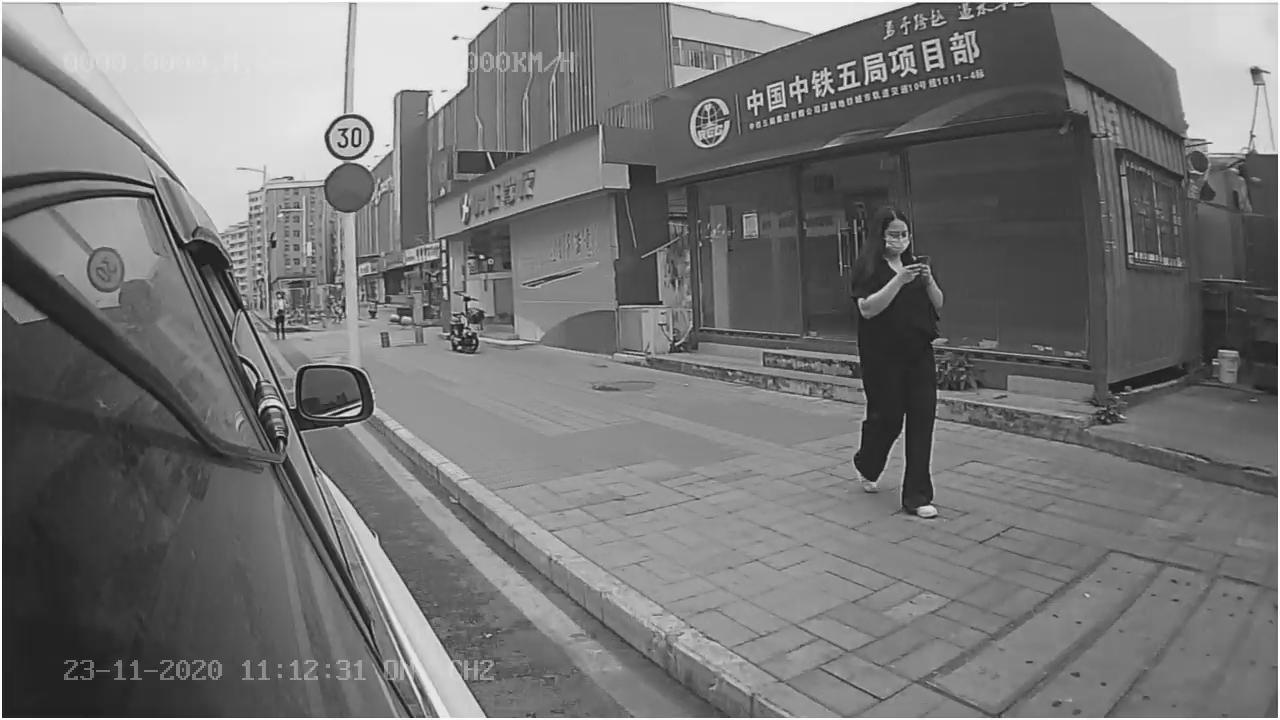person: (842, 204, 958, 539)
